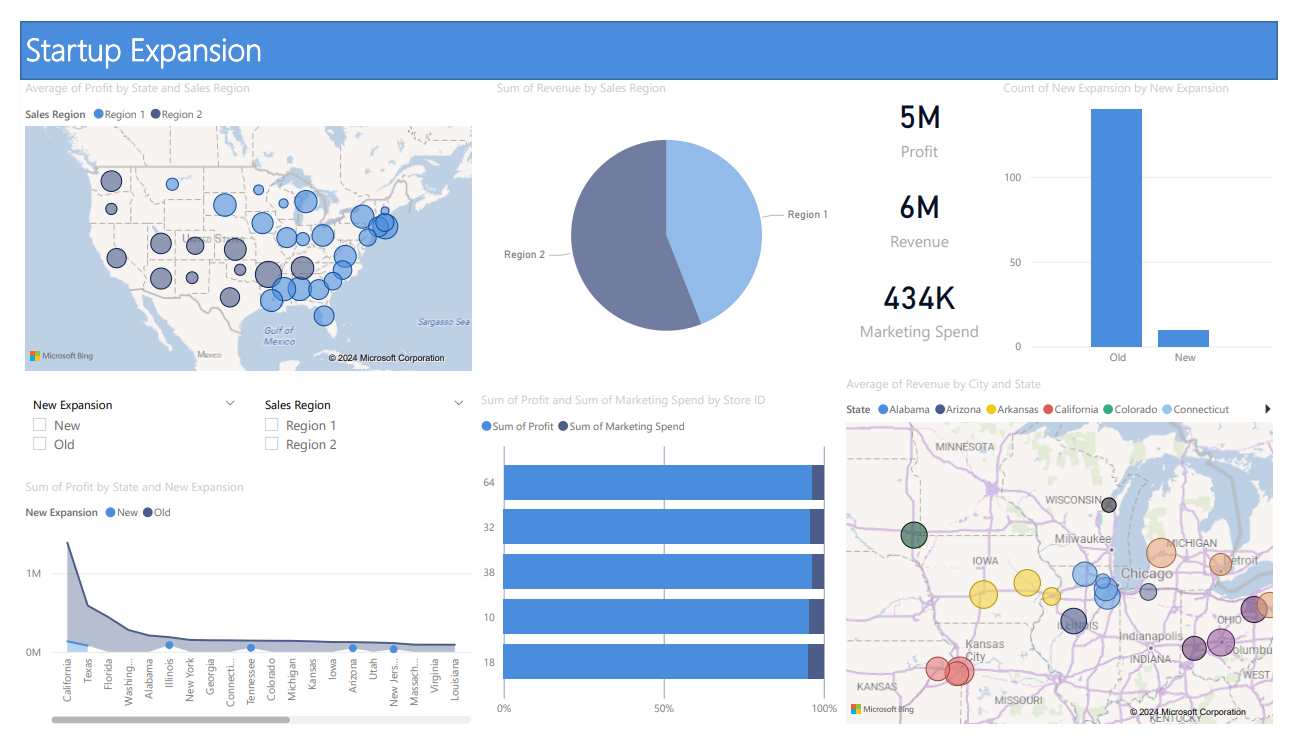

This screenshot's page, from the dashboard's own definition file:
{"tool":"powerbi","page":{"name":"Overview","canvas":[1280,720],"ordinal":0},"visuals":[{"type":"map","fields":{"Category":["startup-expansion.State"],"Series":["startup-expansion.Sales Region"],"Size":["Avg(startup-expansion.Profit)"]},"box":[0,58.5,463.9,301.5],"z":0},{"type":"map","fields":{"Category":["startup-expansion.City"],"Series":["startup-expansion.State"],"Size":["Avg(startup-expansion.Revenue)"]},"box":[835.7,360,444.3,360],"z":2000},{"type":"pieChart","fields":{"Y":["Sum(startup-expansion.Revenue)"],"Series":["startup-expansion.Sales Region"]},"box":[480,58.6,355.7,301.4],"z":3000},{"type":"hundredPercentStackedBarChart","fields":{"Category":["startup-expansion.Store ID"],"Y":["Sum(startup-expansion.Profit)","Sum(startup-expansion.Marketing Spend)"]},"box":[464.3,377.1,371.4,340],"z":4000},{"type":"card","fields":{"Values":["Sum(startup-expansion.Marketing Spend)"]},"box":[835.6,242.9,159.5,92.2],"z":5000},{"type":"card","fields":{"Values":["Sum(startup-expansion.Revenue)"]},"box":[835.6,150.7,159.5,92.2],"z":6000},{"type":"card","fields":{"Values":["Sum(startup-expansion.Profit)"]},"box":[835.6,58.5,159.5,92.2],"z":7000},{"type":"stackedAreaChart","fields":{"Category":["startup-expansion.State"],"Y":["Sum(startup-expansion.Profit)"],"Series":["startup-expansion.New Expansion"]},"box":[0,465.4,463.9,254.6],"z":8000},{"type":"slicer","fields":{"Values":["startup-expansion.New Expansion"]},"box":[0,377.1,231.4,88.6],"z":9000},{"type":"slicer","fields":{"Values":["startup-expansion.Sales Region"]},"box":[235.7,377.1,228.6,88.6],"z":10000},{"type":"columnChart","fields":{"Category":["startup-expansion.New Expansion"],"Y":["CountNonNull(startup-expansion.New Expansion)"]},"box":[995.7,58.6,284.3,301.4],"z":10001},{"type":"shape","box":[0,0,1280,58.6],"z":10002},{"type":"textbox","box":[0,0,377.6,58.5],"z":10003}]}

Visuals, with their boxes in screenshot pixels (x1, y1, x2, y2), scaled from the page's 1280x720 canvas onto the 1297x748 screenshot:
map - startup-expansion.State x startup-expansion.Sales Region: (left=0, top=61, right=470, bottom=374)
map - startup-expansion.City x startup-expansion.State: (left=847, top=374, right=1296, bottom=747)
pieChart - Sum(startup-expansion.Revenue) x startup-expansion.Sales Region: (left=486, top=61, right=847, bottom=374)
hundredPercentStackedBarChart - startup-expansion.Store ID x Sum(startup-expansion.Profit): (left=470, top=392, right=847, bottom=745)
card - Sum(startup-expansion.Marketing Spend): (left=847, top=252, right=1008, bottom=348)
card - Sum(startup-expansion.Revenue): (left=847, top=157, right=1008, bottom=252)
card - Sum(startup-expansion.Profit): (left=847, top=61, right=1008, bottom=157)
stackedAreaChart - startup-expansion.State x Sum(startup-expansion.Profit): (left=0, top=483, right=470, bottom=747)
slicer - startup-expansion.New Expansion: (left=0, top=392, right=234, bottom=484)
slicer - startup-expansion.Sales Region: (left=239, top=392, right=470, bottom=484)
columnChart - startup-expansion.New Expansion x CountNonNull(startup-expansion.New Expansion): (left=1009, top=61, right=1296, bottom=374)
shape: (left=0, top=0, right=1296, bottom=61)
textbox: (left=0, top=0, right=383, bottom=61)
